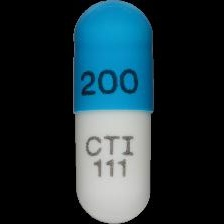50268-060: (0, 0, 224, 224)
